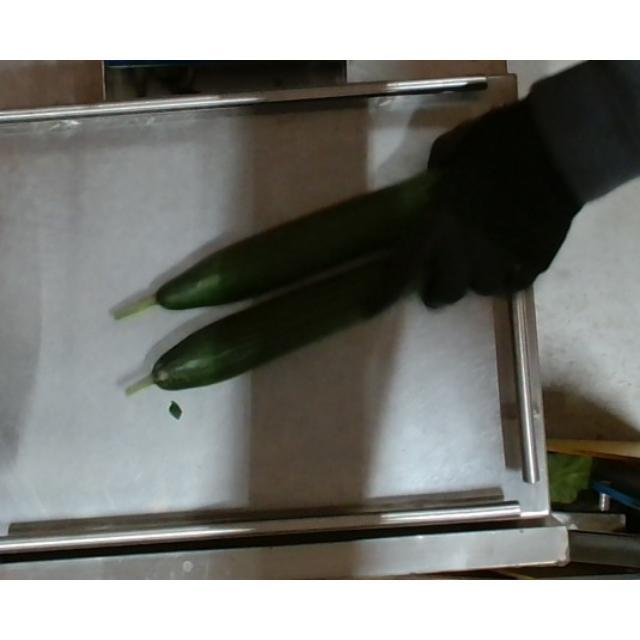cucumber: (115, 167, 448, 323), (125, 252, 432, 398)
